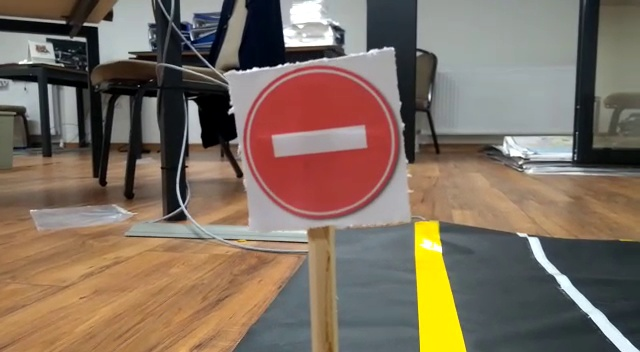girisi_olmayan_yol: (234, 57, 405, 221)
